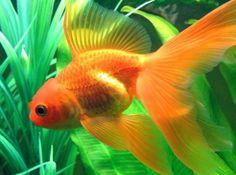goldfish: (25, 45, 164, 136)
